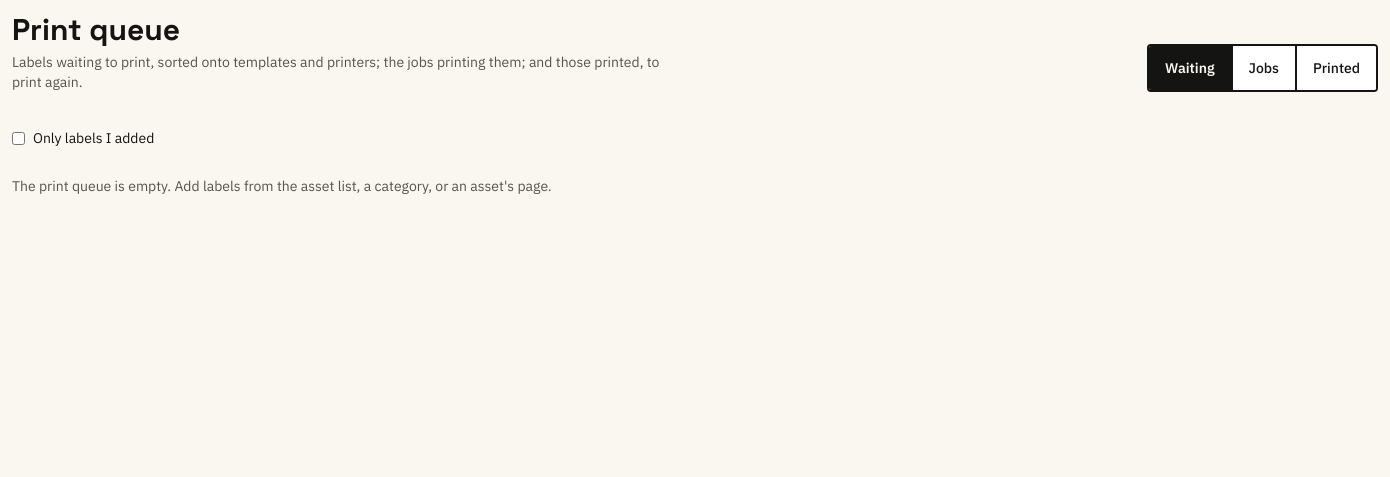
SpoolPage › lists jobs, cancels one waiting, and sends one again elsewhere
Click the button "Jobs". click: point(1265, 68)
box: [1232,46,1297,90]
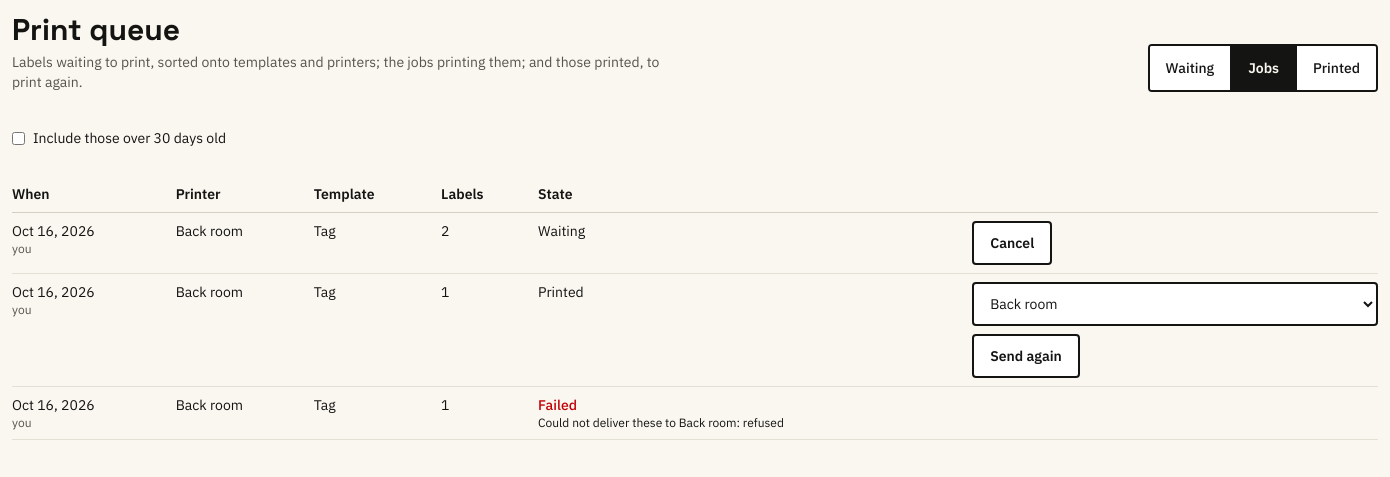
Expected: the 4th row shows "Could not deliver these to Back room", [538,415,784,430]
Click the button with aria-label "Cancel the job printing 2 labels on Back room". click: point(1012, 243)
box: [972,221,1052,265]
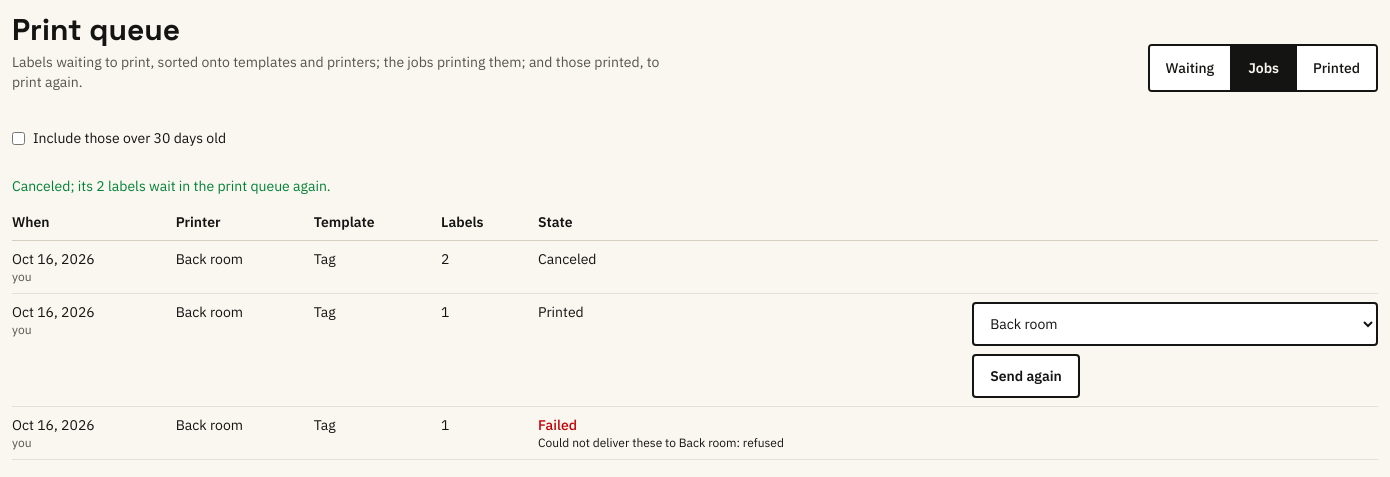
Expected: the text "Canceled; its 2 labels wait in the print queue again." is shown, [12,177,331,195]
Expected: the text "Canceled" is shown, [538,250,596,268]
Select "Front desk" in the dropdown. click: point(1175, 324)
box: [972,302,1378,346]
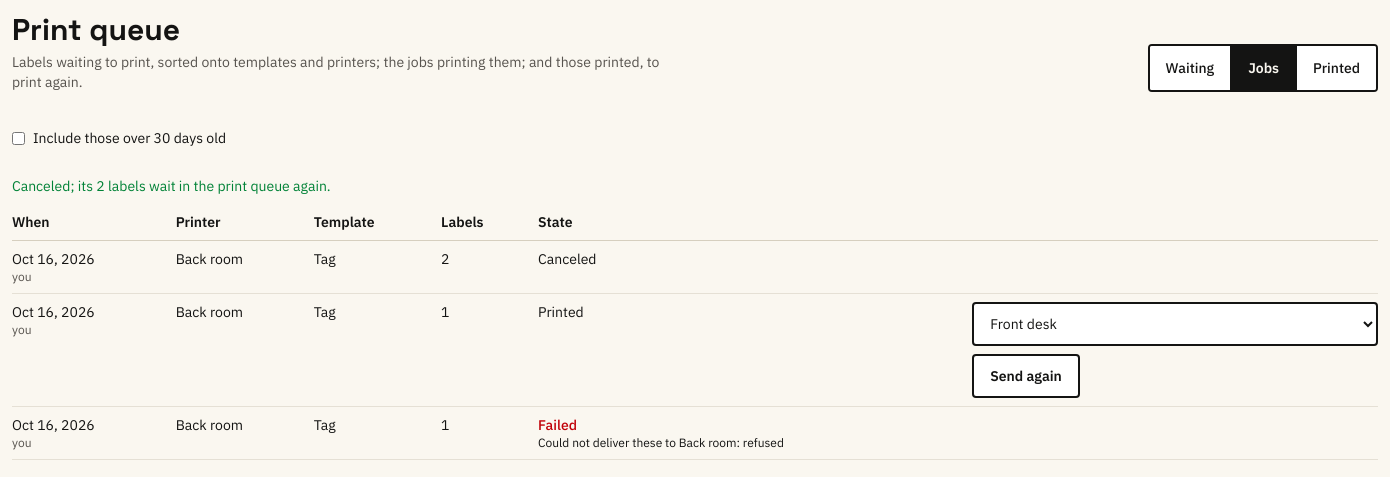
Click the button "Send again". click: point(1026, 376)
box: [972,354,1080,398]
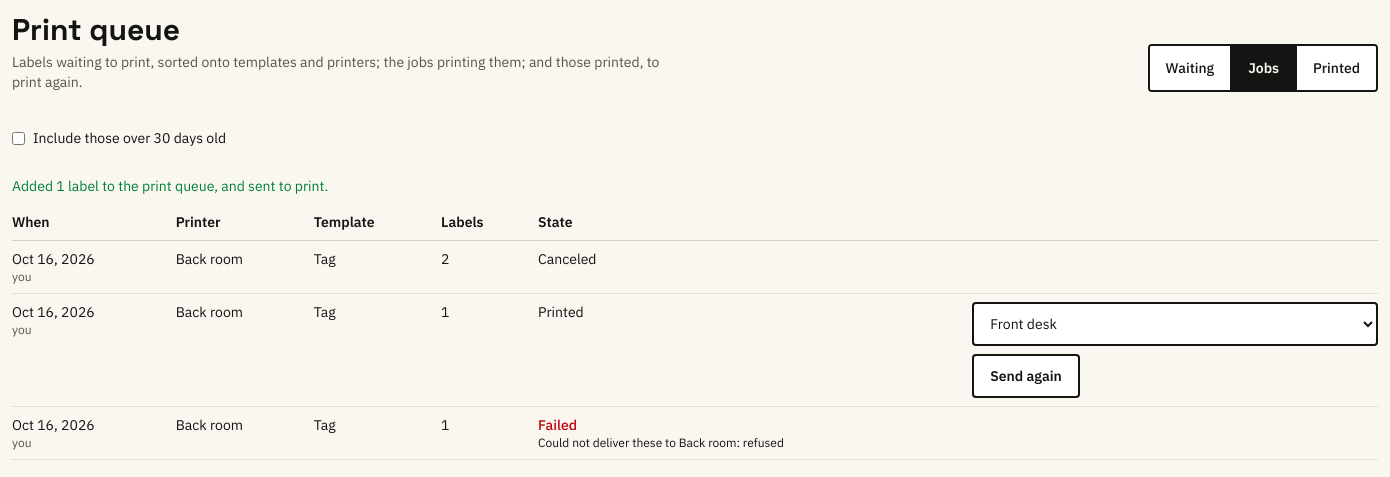
Expected: the text "Added 1 label to the print queue, and sent to print." is shown, [12,177,328,195]
